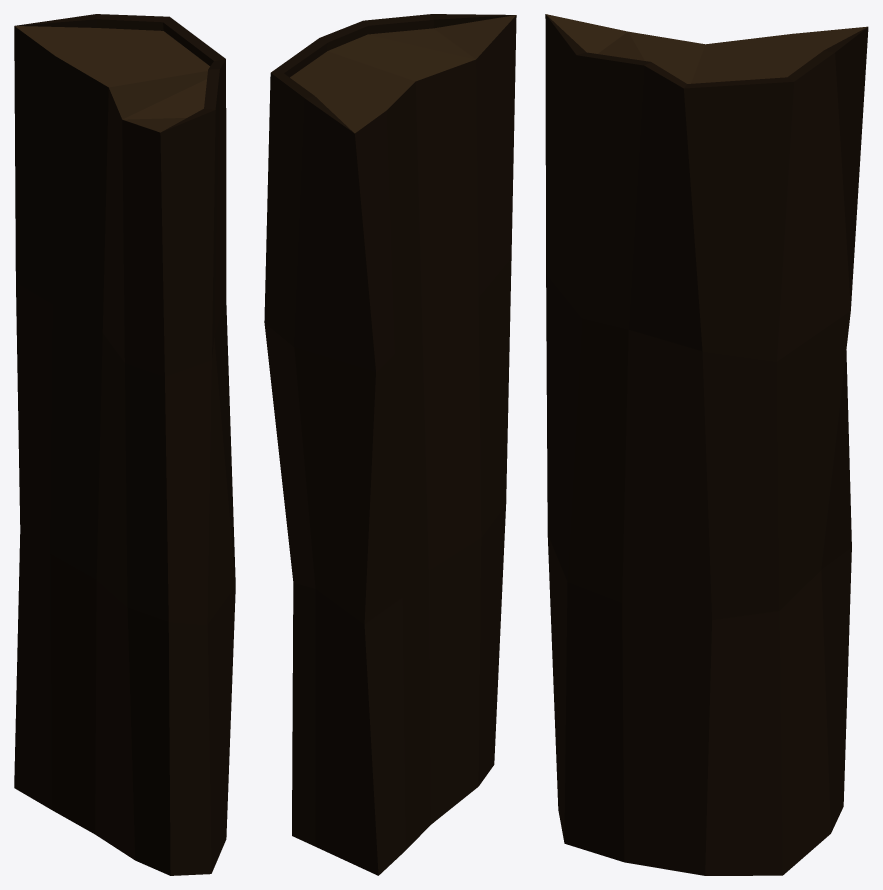
The model's file is CutLog01_FBX.fbx.
3 renders of one model, left to right at view 1: azimuth 30°, elevation 25°; view 2: azimuth 150°, elevation 25°; view 3: azimuth 270°, elevation 25°, orthographic. The views are drawn at different scales.
Parts seen in each view (by area): view 1: CUT LOG 1; view 2: CUT LOG 1; view 3: CUT LOG 1.
Boxes of the visible parts, x1,y1,x2,y2 form: CUT LOG 1: (14,14,235,875); CUT LOG 1: (264,14,516,875); CUT LOG 1: (545,14,868,875).
Size of the model in its own units: 14.06 by 70.85 by 25.66.
